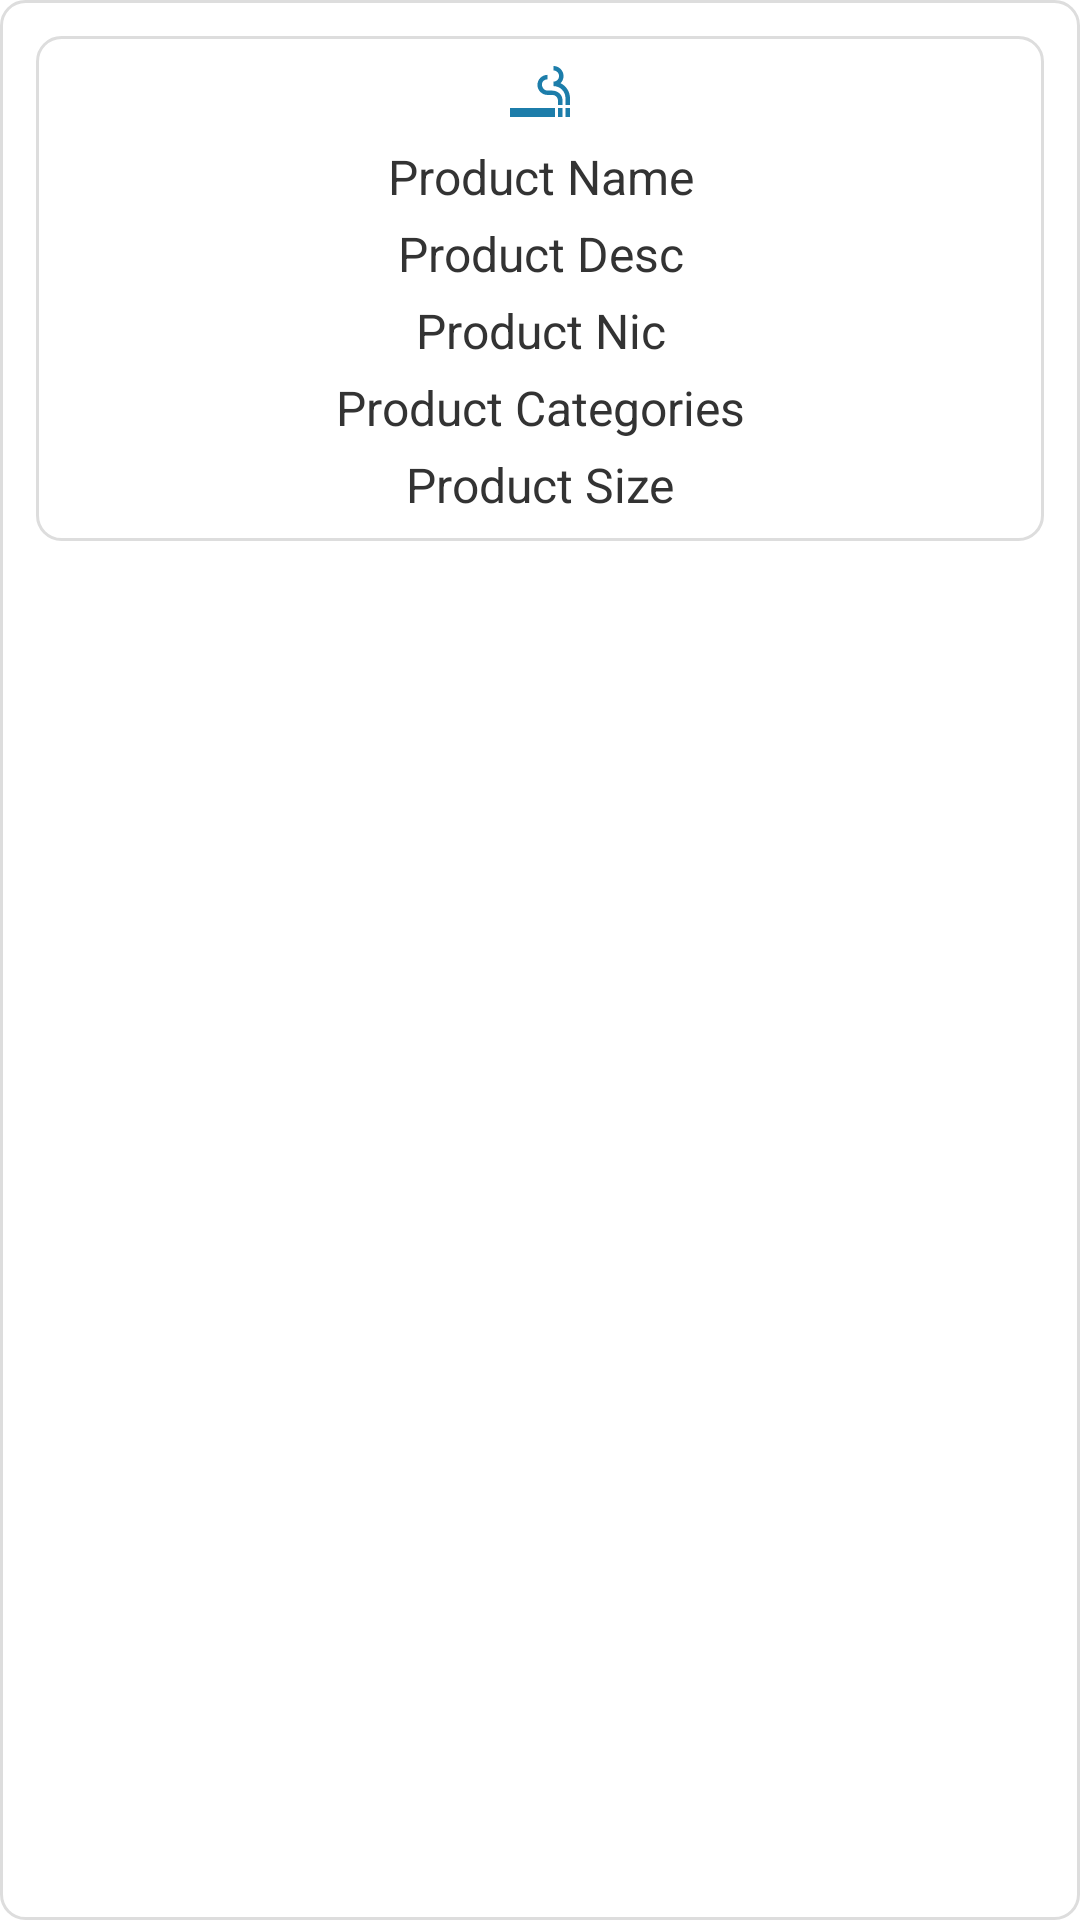

Locate icon controls on the screen. Image size 1080w x 1920h, boxes as (x1, y1, x2, y2).
smoking rooms: (510, 66, 570, 117)
